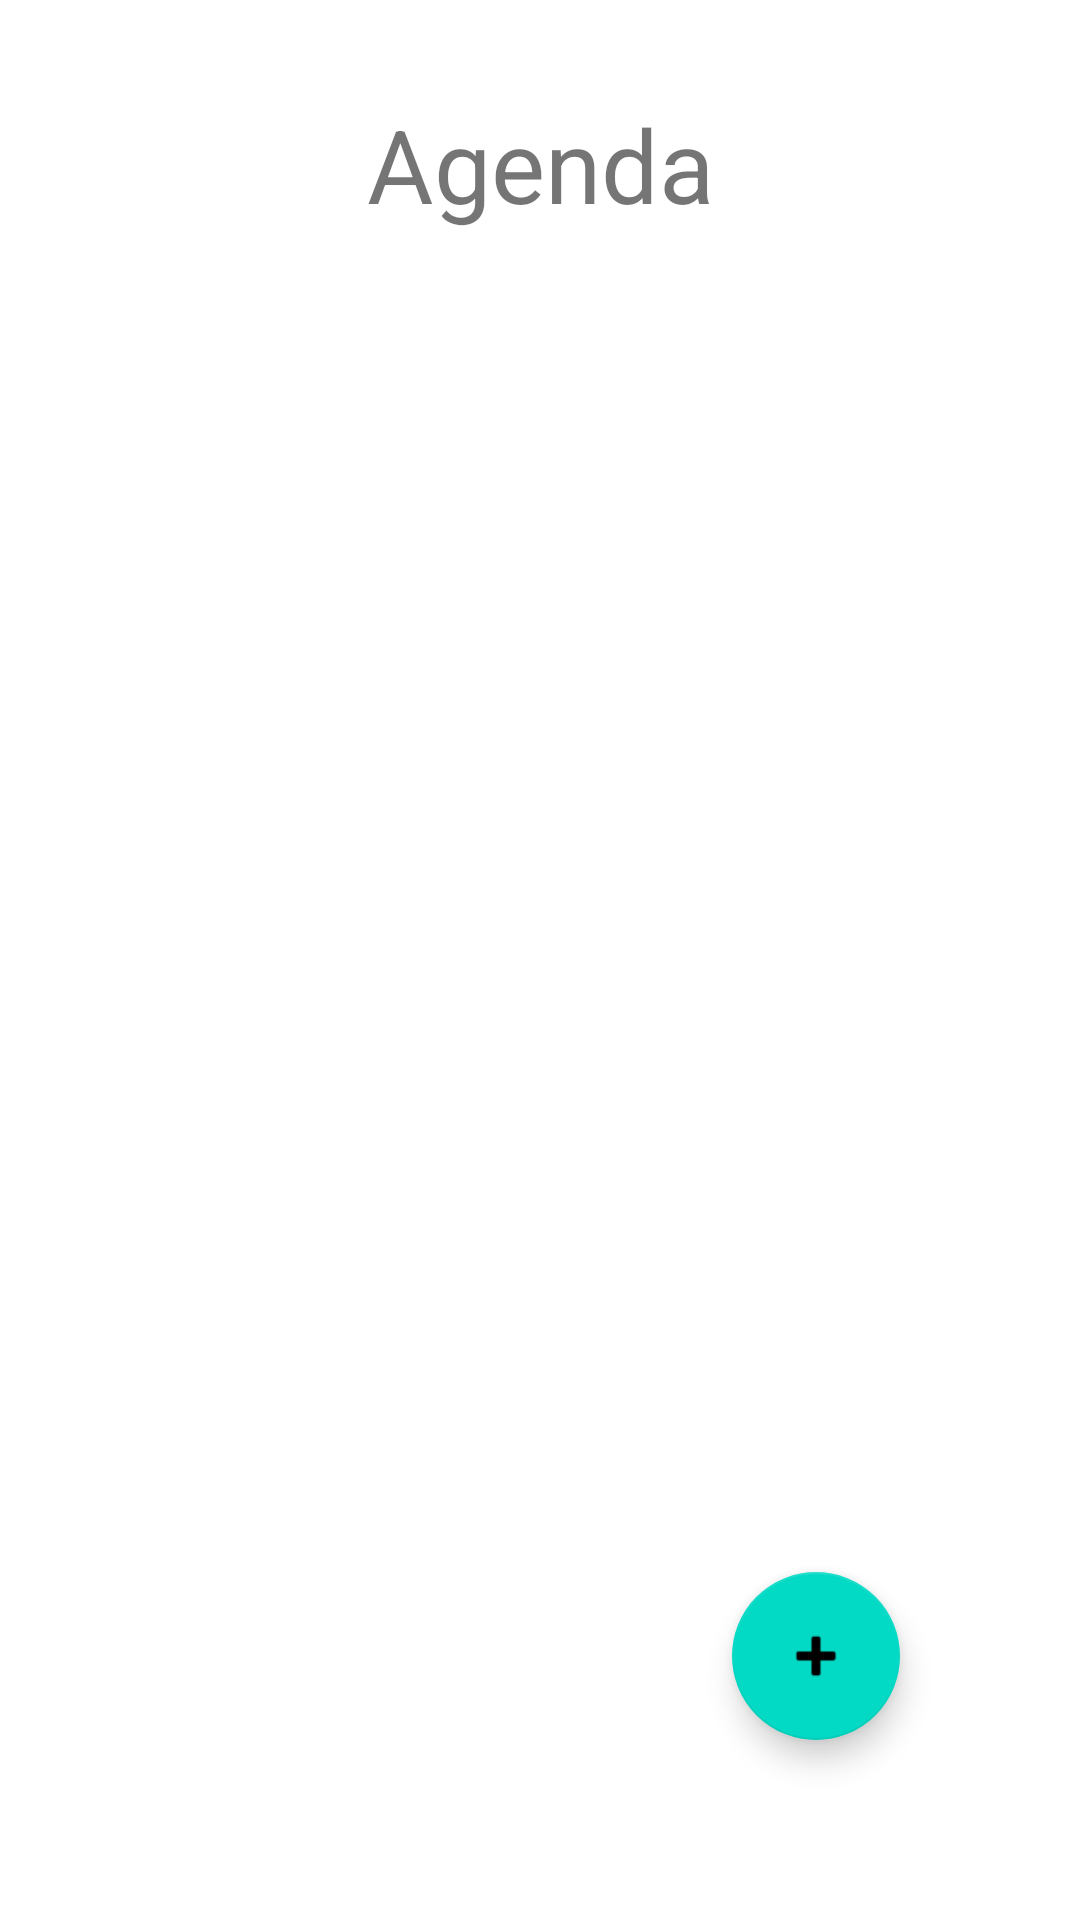

Where icons sit on this 1080×1920 app screen, as (x1, y1, x2, y2):
add: (732, 1572, 900, 1740)
